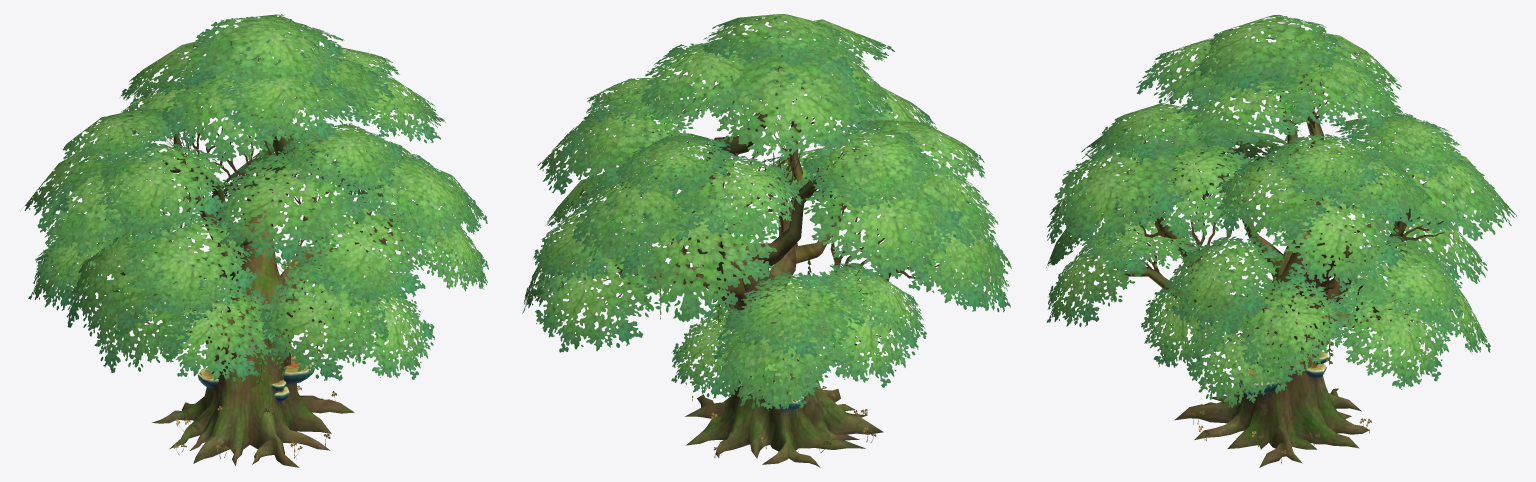
The model's file is Yegesl_tree02.FBX.
3 renders of one model, left to right at view 1: azimuth 30°, elevation 25°; view 2: azimuth 150°, elevation 25°; view 3: azimuth 270°, elevation 25°, orthographic.
Visible parts, largest first — view 1: Yegesl_treeye02, Yegesl_tree02; view 2: Yegesl_treeye02, Yegesl_tree02; view 3: Yegesl_treeye02, Yegesl_tree02.
Boxes of the visible parts, x1,y1,x2,y2 form: Yegesl_treeye02: (20, 14, 488, 459); Yegesl_tree02: (111, 41, 403, 467); Yegesl_treeye02: (522, 14, 1011, 457); Yegesl_tree02: (593, 55, 898, 467); Yegesl_treeye02: (1046, 14, 1516, 463); Yegesl_tree02: (1113, 24, 1413, 467).
Size of the model in its own units: 123 by 116 by 109.
